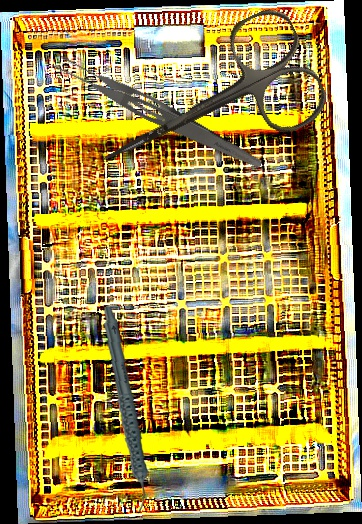Dressing Forceps: (49, 49, 268, 174)
Handpiece: (91, 306, 158, 513)
Iris Scissors: (75, 1, 335, 212)
